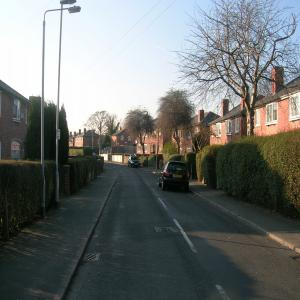Vehicle-registration-plate: (175, 175, 183, 179)
